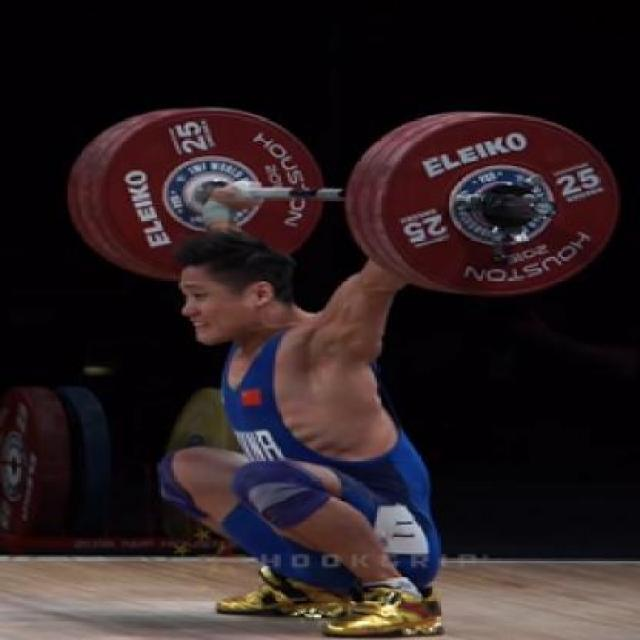Barbell: (526, 196, 560, 224)
